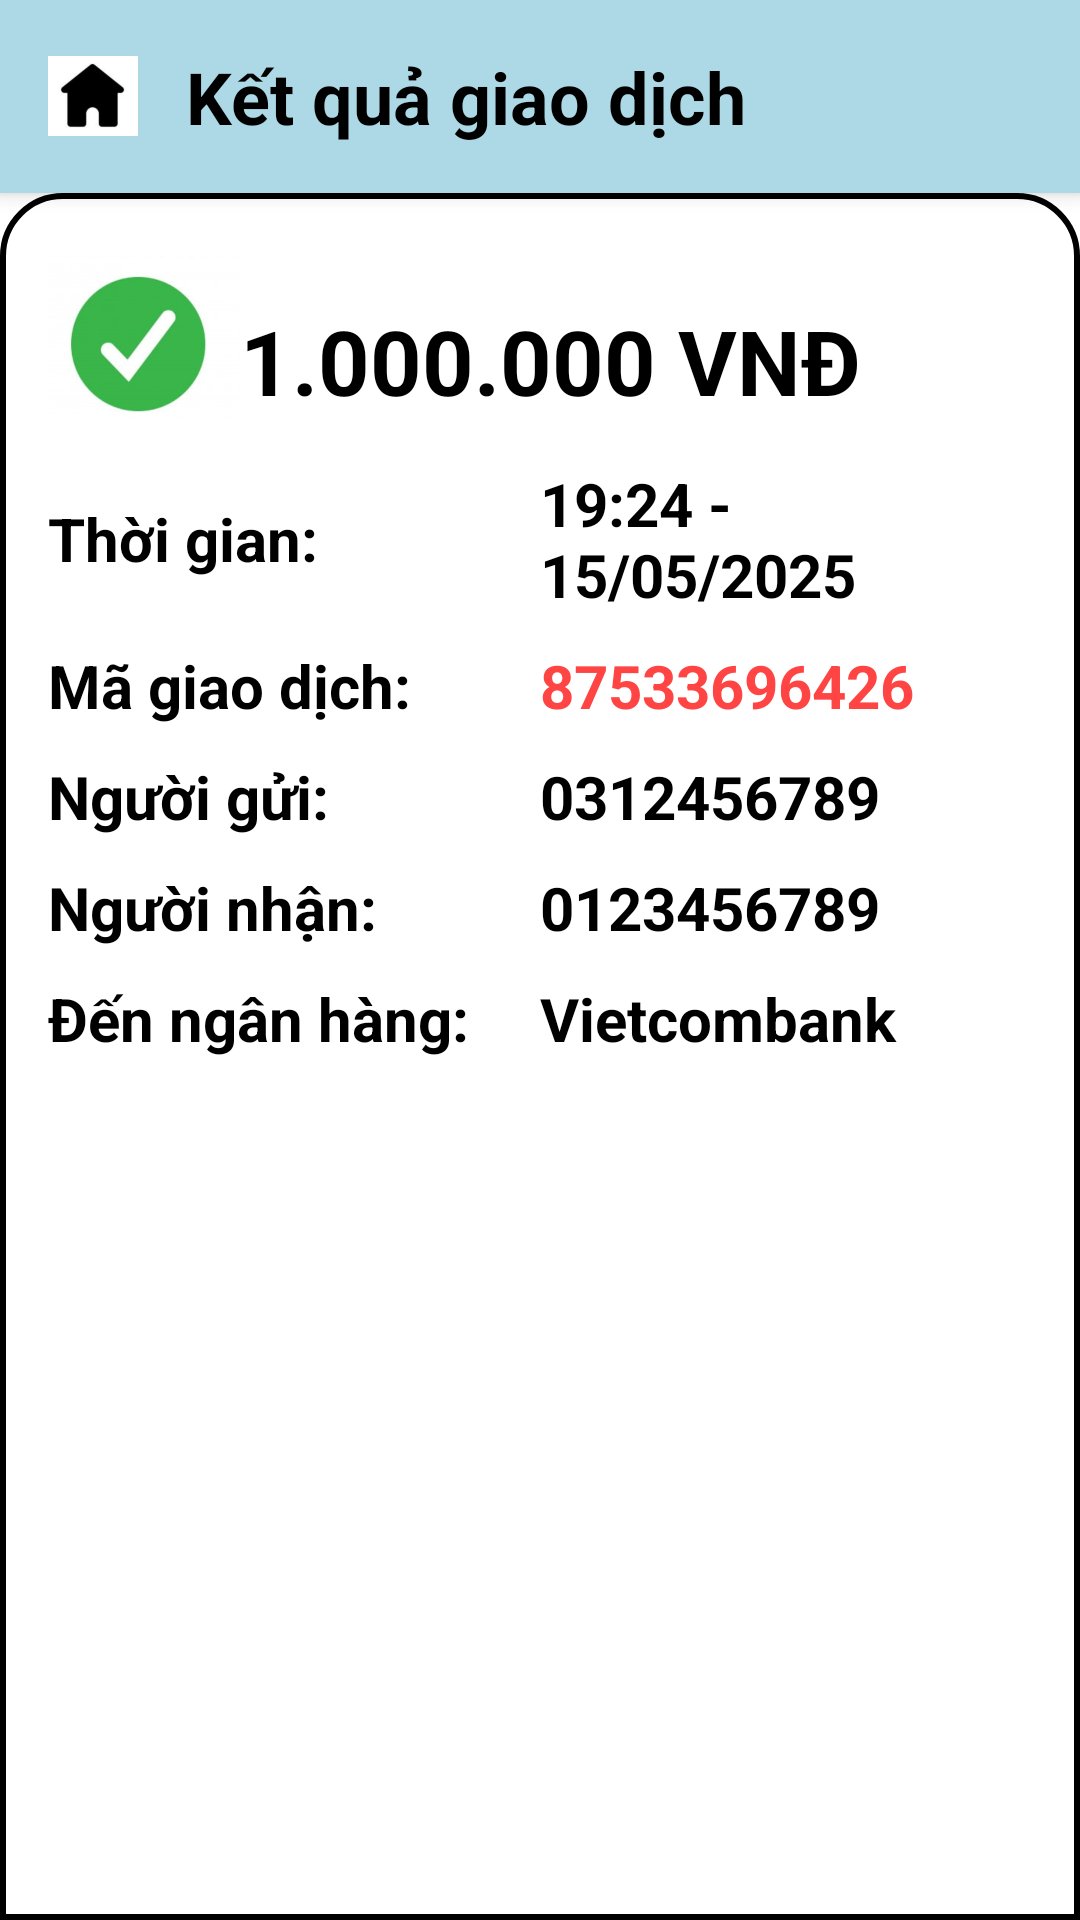

Icon bounding boxes for this 1080 x 1920 phone screenshot, format (x1, y1, x2, y2):
home: (48, 56, 138, 136)
successfull: (71, 276, 206, 412)
